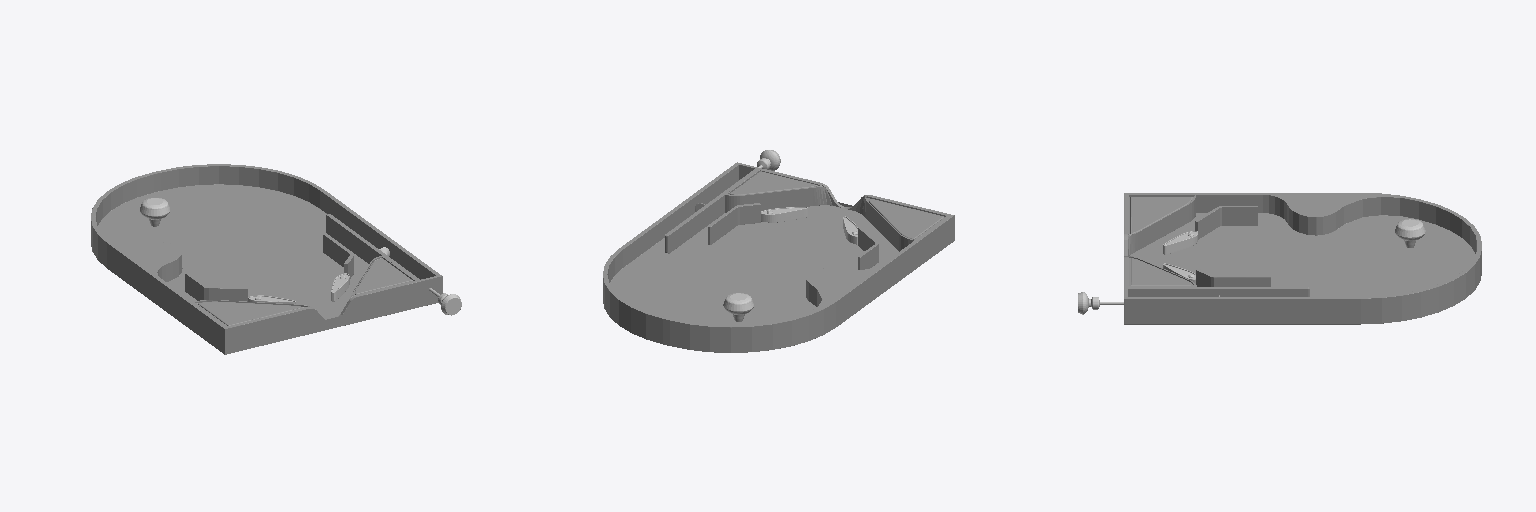
Rendered from Pinball_Board_MOD_0009.obj.
3 views of the same model, side by side, from view 1: azimuth 30°, elevation 25°; view 2: azimuth 150°, elevation 25°; view 3: azimuth 270°, elevation 25° (orthographic).
Visible parts, largest first — view 1: Cube, Cube.001, Cylinder.001; view 2: Cube, Cube.001, Cylinder.001; view 3: Cube, Cube.001, Cylinder.001.
Boxes of the visible parts, x1=… form: Cube: x1=91, y1=164, x2=442, y2=354; Cube.001: x1=248, y1=273, x2=349, y2=303; Cylinder.001: x1=140, y1=198, x2=169, y2=226; Cube: x1=603, y1=162, x2=954, y2=352; Cube.001: x1=761, y1=207, x2=857, y2=244; Cylinder.001: x1=723, y1=293, x2=753, y2=321; Cube: x1=1124, y1=193, x2=1481, y2=324; Cube.001: x1=1163, y1=231, x2=1197, y2=283; Cylinder.001: x1=1395, y1=219, x2=1425, y2=247.
Size of the model in its own units: 2.5 by 0.3394 by 4.02.